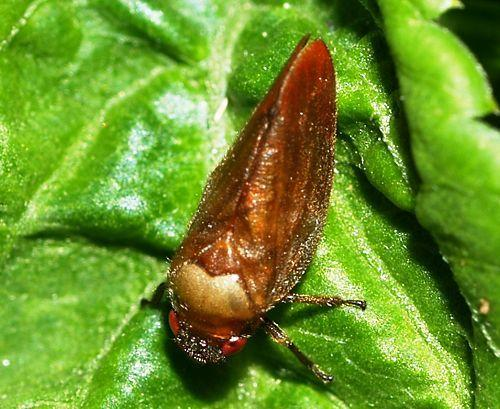Cicadellidae: (166, 32, 367, 382)
